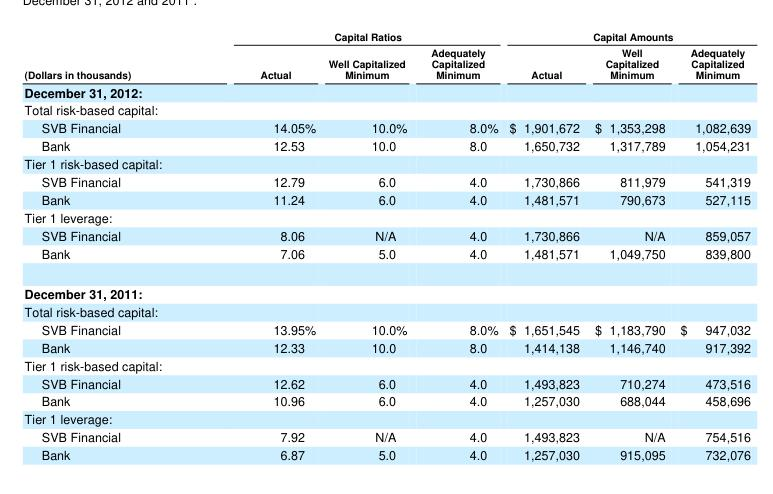table: (23, 28, 750, 462)
table column: (23, 28, 194, 462), (194, 28, 321, 462), (321, 28, 418, 462), (586, 28, 672, 462), (418, 28, 502, 462), (502, 28, 586, 462), (672, 28, 750, 462)
table column header: (23, 28, 750, 82)
table projected row header: (23, 273, 750, 302), (23, 82, 750, 100), (23, 100, 750, 118), (23, 154, 750, 172), (23, 302, 750, 320), (23, 355, 750, 373), (23, 409, 750, 427), (23, 208, 750, 225)
table row: (23, 43, 750, 82), (23, 243, 750, 273), (23, 273, 750, 302), (23, 82, 750, 100), (23, 100, 750, 118), (23, 118, 750, 136), (23, 136, 750, 154), (23, 154, 750, 172), (23, 172, 750, 190), (23, 190, 750, 208), (23, 225, 750, 243), (23, 302, 750, 320), (23, 320, 750, 338), (23, 355, 750, 373), (23, 373, 750, 391), (23, 391, 750, 409), (23, 409, 750, 427), (23, 427, 750, 445), (23, 208, 750, 225), (23, 338, 750, 355), (23, 445, 750, 462), (23, 28, 750, 43)
table spanning cell: (23, 28, 194, 82), (194, 28, 502, 43), (502, 28, 750, 43)
